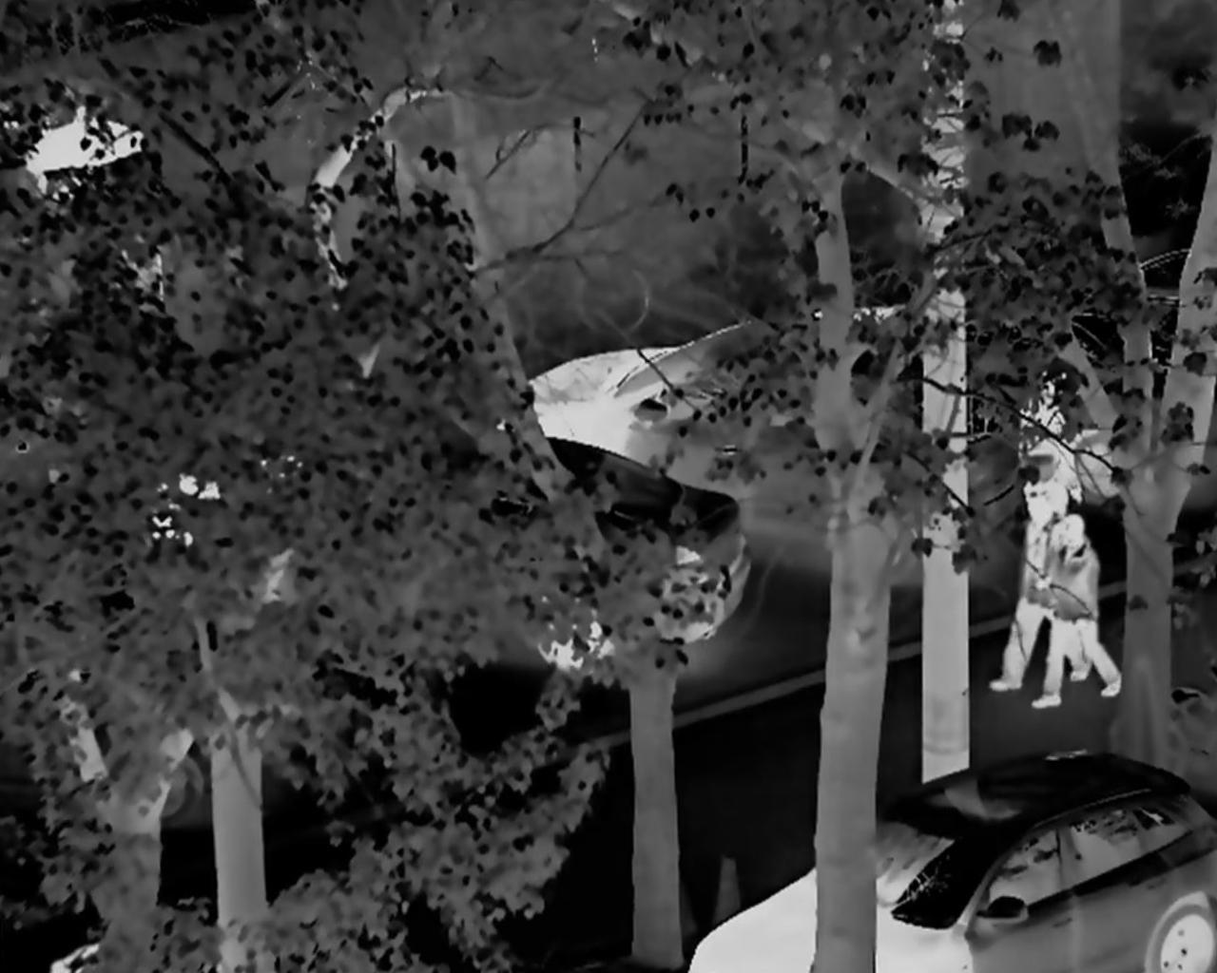person: (989, 496, 1091, 696), (1045, 518, 1122, 709), (1020, 362, 1083, 537)
